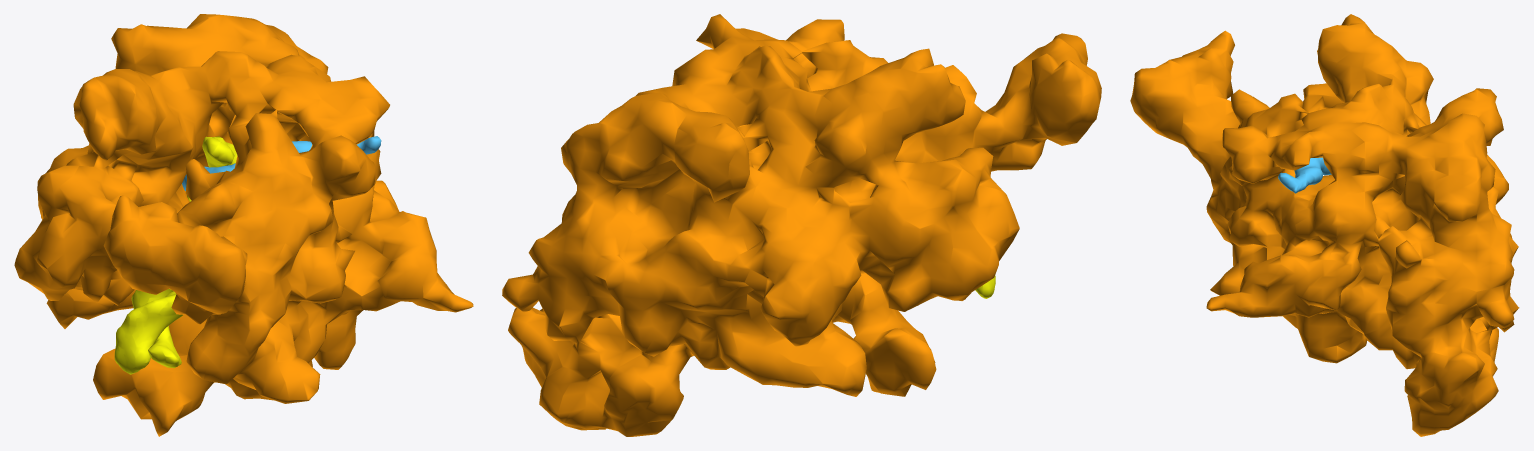
File: rna_polymerase_1_0.dae
The picture shows the model from 3 angles, left to right: view 1: azimuth 30°, elevation 25°; view 2: azimuth 150°, elevation 25°; view 3: azimuth 270°, elevation 25°; orthographic projection. The views are drawn at different scales.
Visible parts, largest first — view 1: CoarseMS_3bnaDNA.1; view 2: CoarseMS_3bnaDNA.1; view 3: CoarseMS_3bnaDNA.1.
Part boxes in pixels (<box>): CoarseMS_3bnaDNA.1: <box>14,14,473,436</box>; CoarseMS_3bnaDNA.1: <box>502,14,1101,436</box>; CoarseMS_3bnaDNA.1: <box>1130,14,1519,436</box>.
Size of the model in its own units: 132 by 119 by 136.
